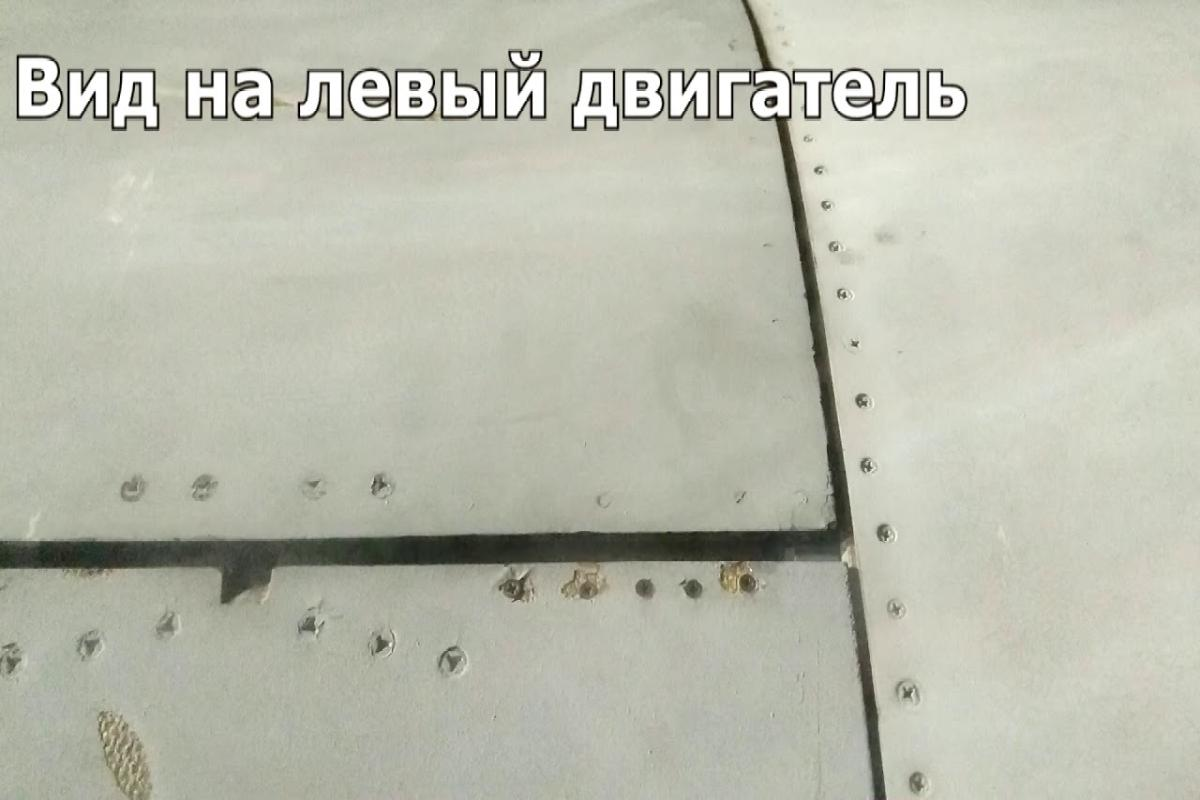Fuselage_damage: (0, 523, 841, 601), (779, 119, 851, 552), (854, 590, 883, 799), (98, 710, 150, 799), (742, 0, 771, 61)
